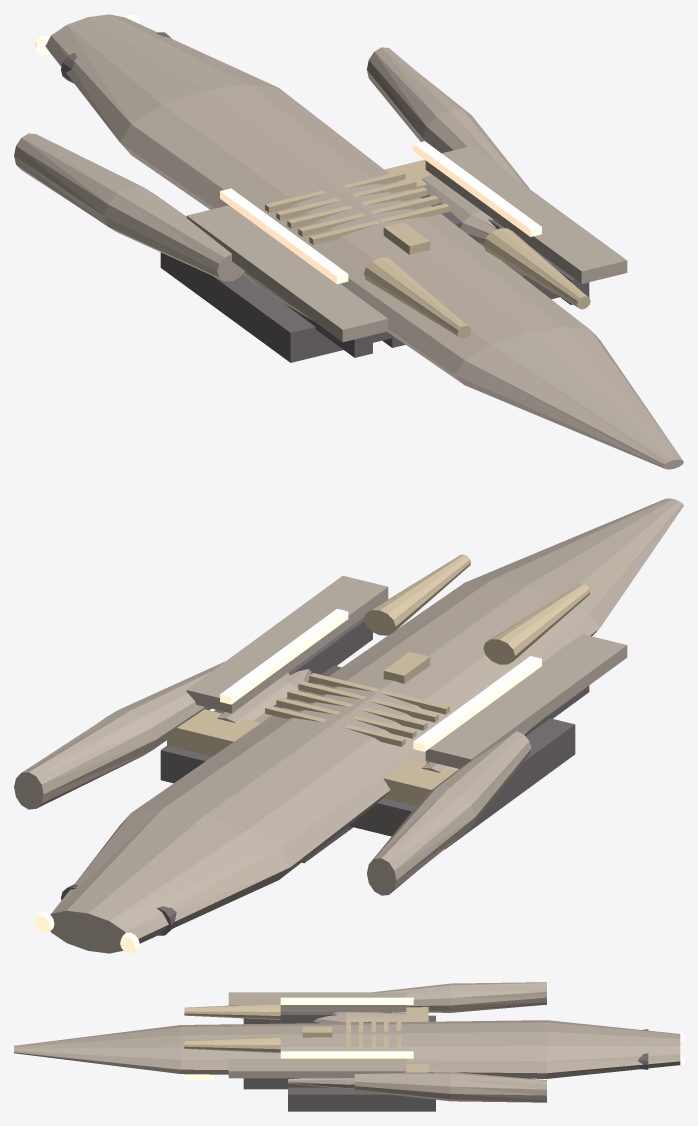
3 views of the same model, one above another, from view 1: azimuth 30°, elevation 25°; view 2: azimuth 150°, elevation 25°; view 3: azimuth 270°, elevation 25° (orthographic). The views are drawn at different scales.
Bounding box in the file's own units: 6.92 × 1.84 × 18.46.
